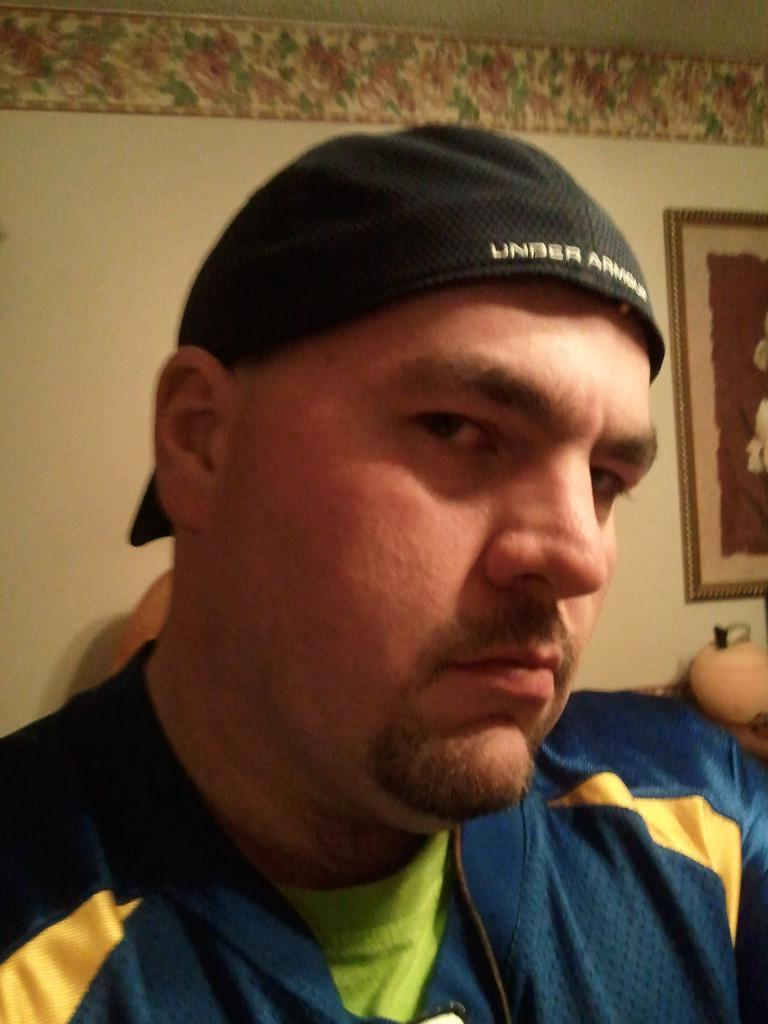Hat: (130, 120, 666, 546)
